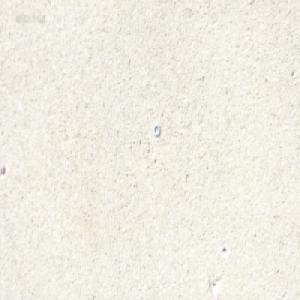Washer: (153, 122, 160, 136)
